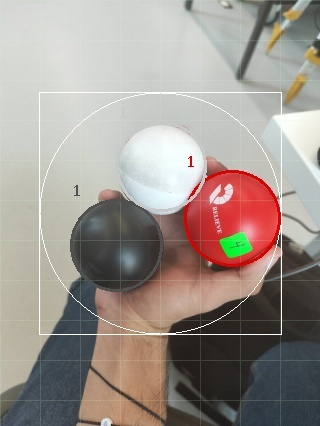Pelota blanca: (116, 121, 209, 216)
Pelota negra: (68, 196, 163, 291)
Pelota roja: (183, 169, 281, 270)
